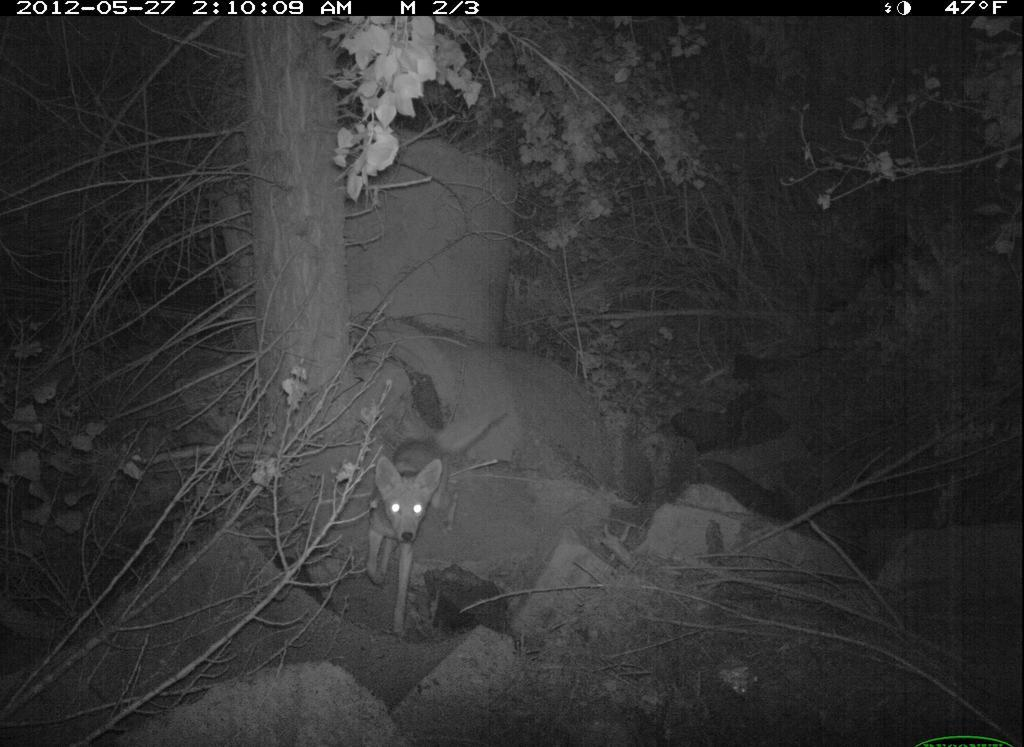coyote: (358, 433, 460, 644)
